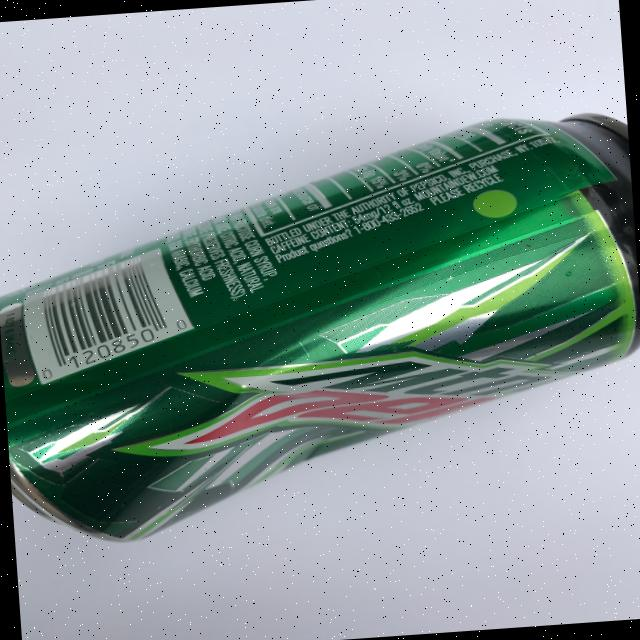metal: (0, 107, 640, 549)
